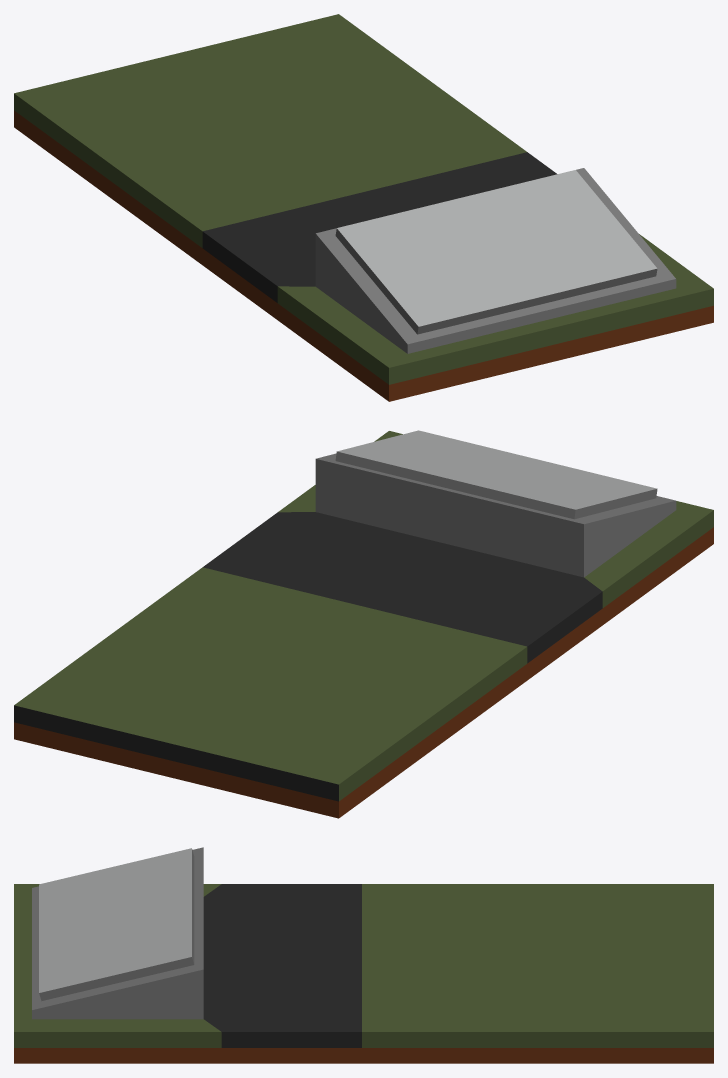
Rendered from BaseTile.fbx.
The picture shows the model from 3 angles, top to bottom: view 1: azimuth 30°, elevation 25°; view 2: azimuth 150°, elevation 25°; view 3: azimuth 270°, elevation 25°; orthographic projection. The views are drawn at different scales.
Visible parts, largest first — view 1: Cube.035; view 2: Cube.035; view 3: Cube.035.
Part boxes in pixels (x1,y1,x2,y2): Cube.035: (14,14,713,401); Cube.035: (14,430,713,818); Cube.035: (14,847,713,1063).
Size of the model in its own units: 1988 by 547 by 3976.
